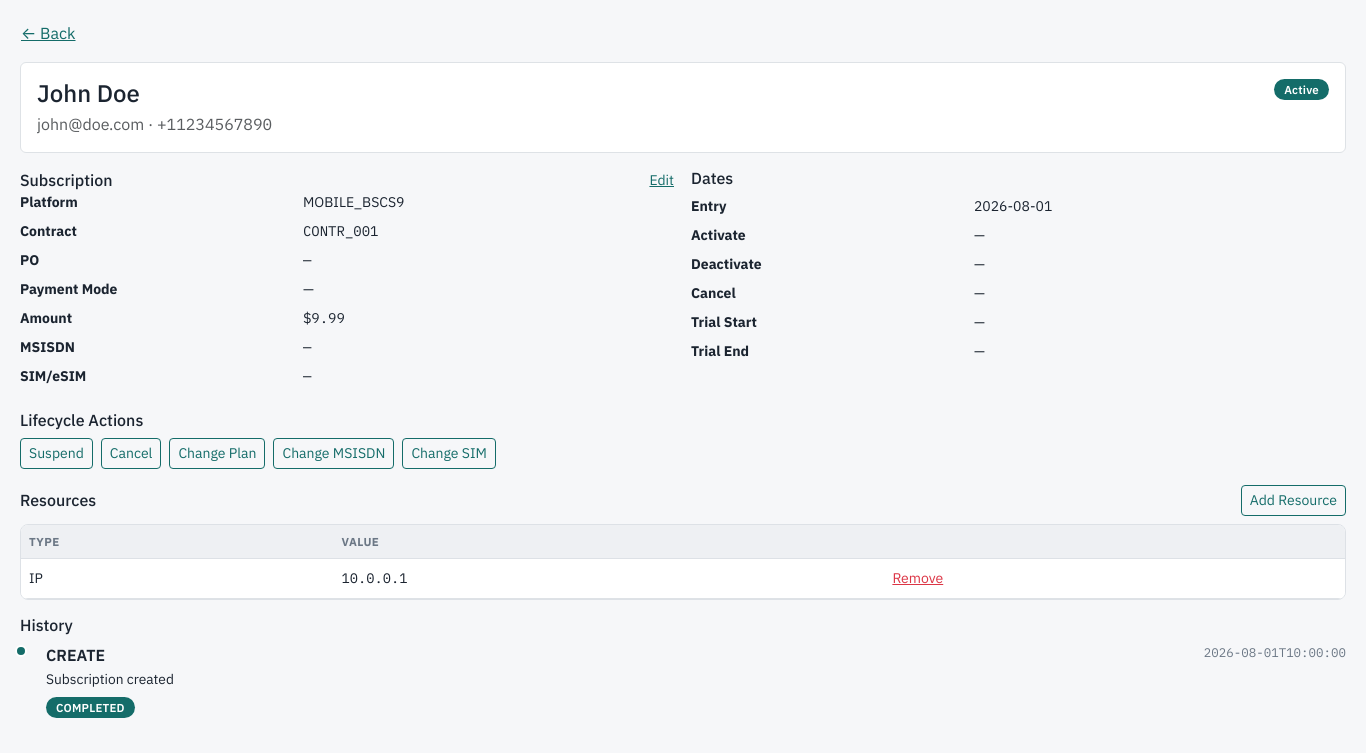
Test case: submitting an action successfully refreshes the screen
expect the heading "John Doe" is shown: met, box [37,77,140,109]
Click the button "Suspend".
click(56, 454)  # box [20,438,93,469]
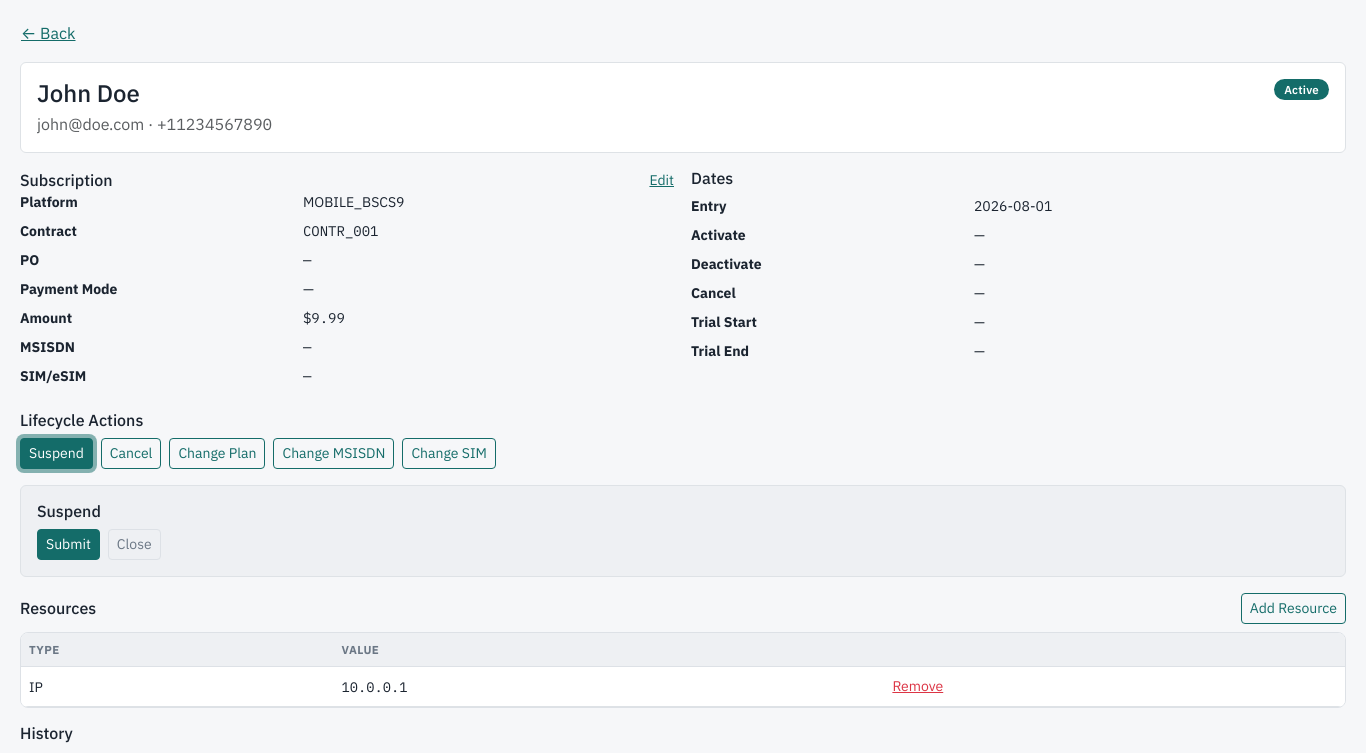
Click the button "Submit".
click(68, 545)  # box [37,529,100,560]
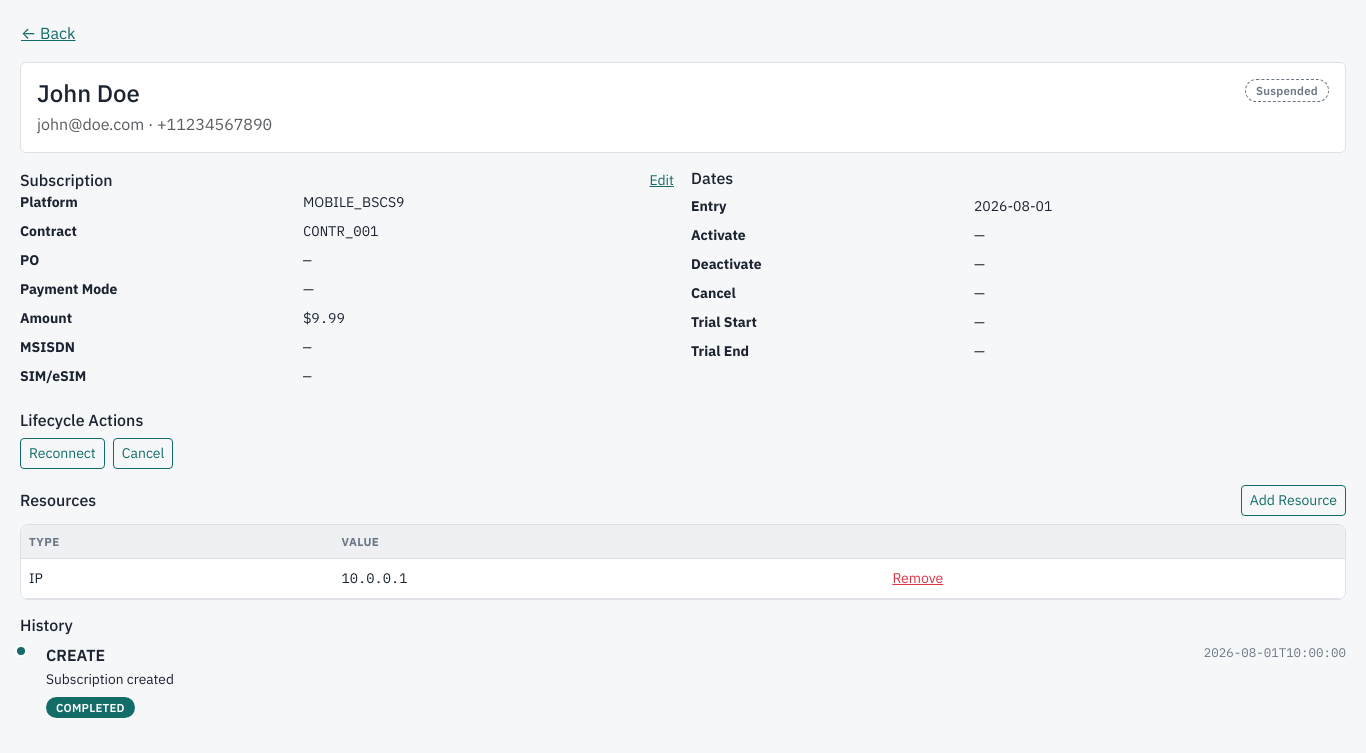
expect the button "Reconnect" is shown: met, box [20,438,105,469]
